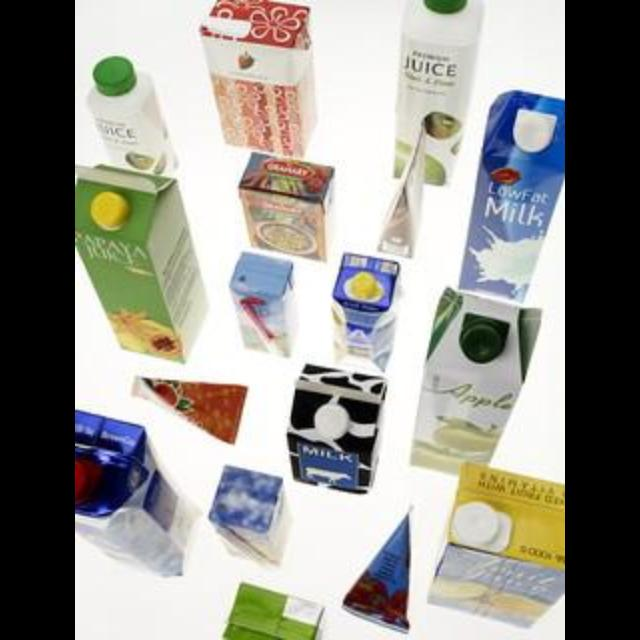caixinha: (75, 164, 211, 366), (409, 286, 545, 474), (456, 88, 564, 306), (427, 460, 565, 630), (76, 408, 202, 580), (200, 1, 318, 158), (286, 362, 388, 496), (329, 252, 405, 376), (227, 248, 301, 356), (217, 582, 327, 640)
tampa plástica: (453, 498, 501, 546), (457, 320, 505, 366), (93, 58, 135, 98), (89, 190, 131, 228), (514, 114, 552, 154), (316, 404, 350, 440), (351, 270, 375, 302), (75, 454, 91, 500), (421, 0, 467, 14)
